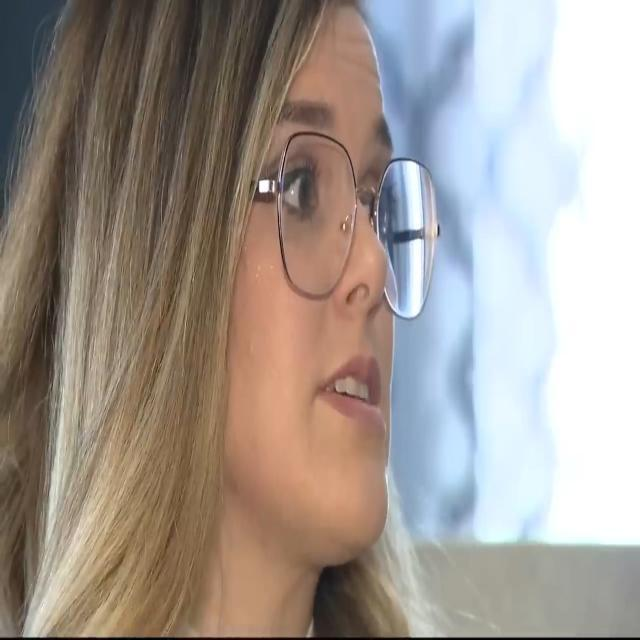non-fight: (43, 0, 479, 593)
